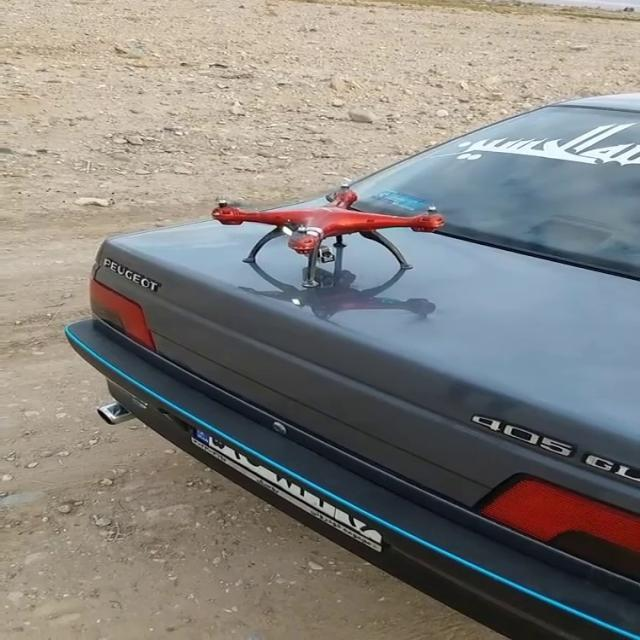drone: (205, 178, 461, 292)
